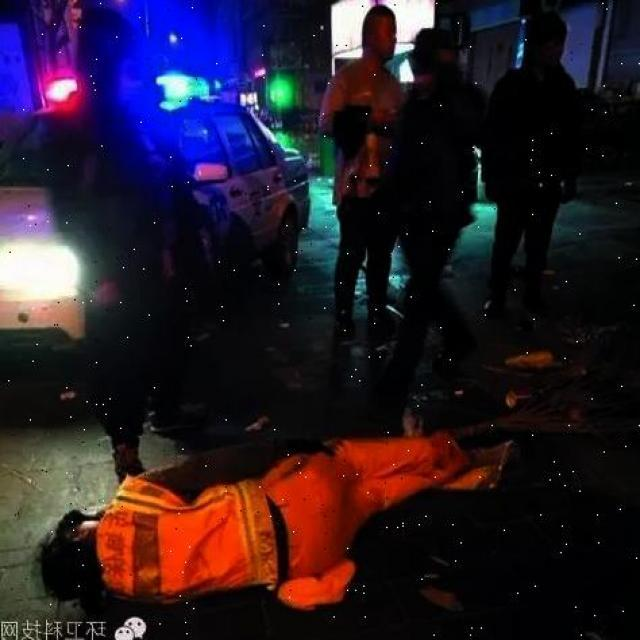fall: (47, 415, 494, 609)
